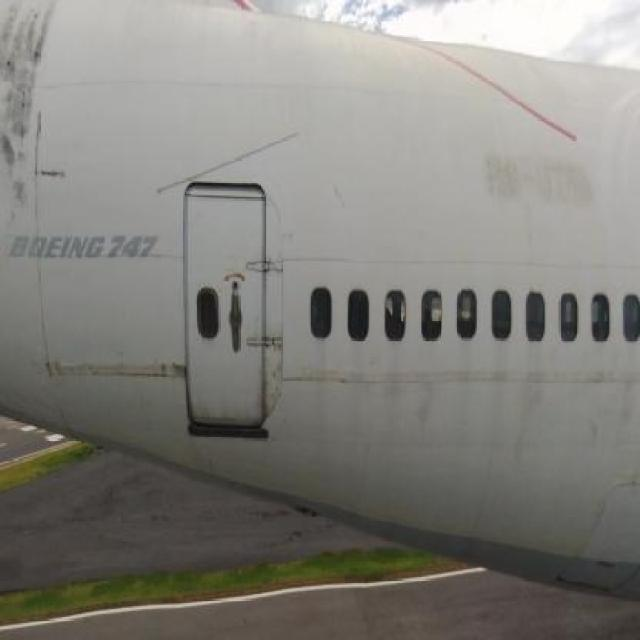Rust: (8, 2, 57, 201), (41, 363, 170, 388)
Scartch: (494, 358, 554, 484), (408, 371, 446, 444), (264, 352, 290, 418), (173, 356, 189, 392)
